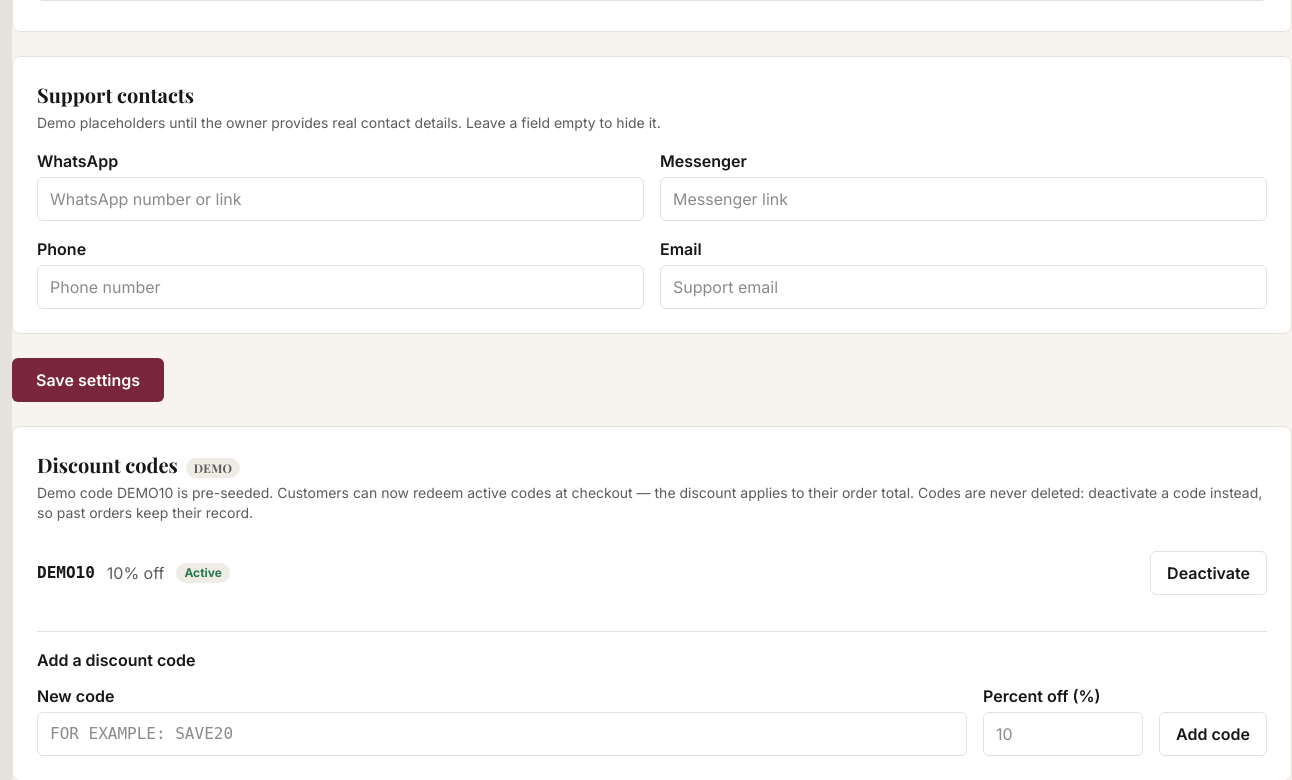
SettingsForm › saves valid settings with Slice A's camelCase field names and shows the confirmation
This screenshot has width=1292, height=780.
(page scrolled)
Click the button "Save settings": (88, 380) [12,358,164,402]
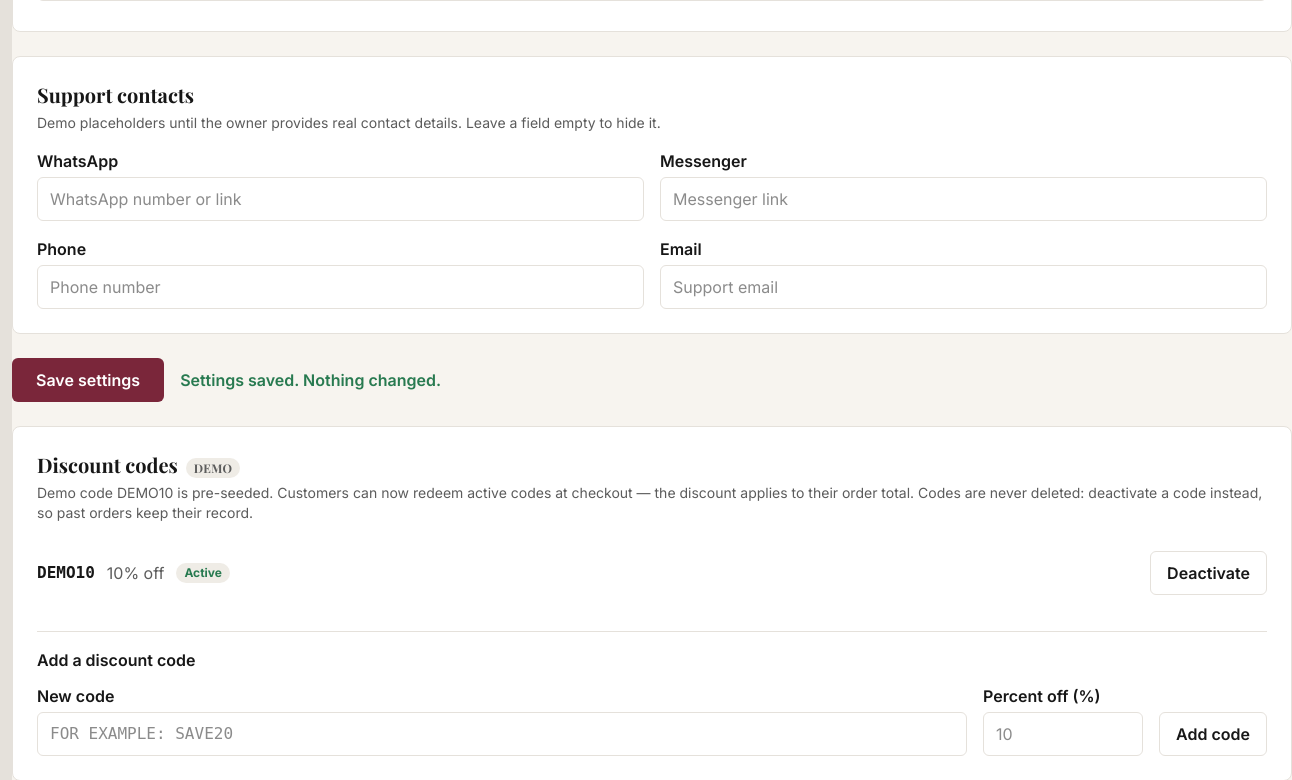
Check: the text "Settings saved. Nothing changed." is shown, box [180,368,441,392]
